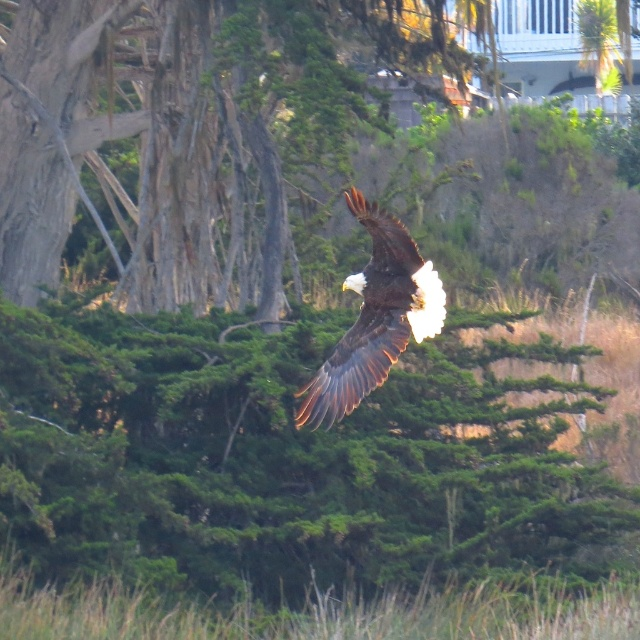Eagle: (293, 185, 445, 433)
